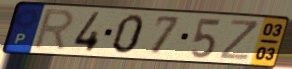0: (111, 13, 146, 55)
4: (71, 10, 102, 54)
5: (187, 16, 225, 60)
7: (150, 15, 182, 57)
R: (30, 8, 76, 53)
Z: (218, 18, 261, 62)
